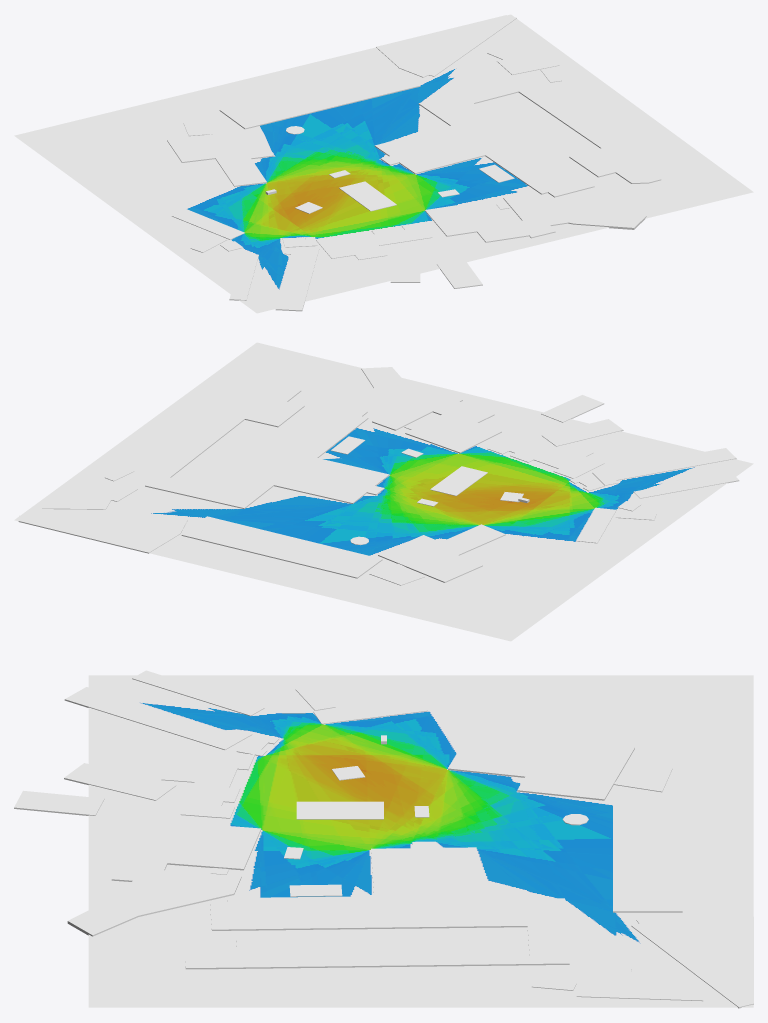
The model's file is agora_.glb.
3 renders of one model, top to bottom at view 1: azimuth 30°, elevation 25°; view 2: azimuth 150°, elevation 25°; view 3: azimuth 270°, elevation 25°, orthographic. The views are drawn at different scales.
Visible parts, largest first — view 1: heatmap_3_agora_color, Mesh_3.001, Mesh_2.001, Mesh_0.001, Mesh_16, Mesh_1.001, Mesh_19, Mesh_18, Mesh_15, Mesh_13, Mesh_9, Mesh_14 (+3 smaller); view 2: heatmap_3_agora_color, Mesh_3.001, Mesh_2.001, Mesh_0.001, Mesh_16, Mesh_1.001, Mesh_19, Mesh_18, Mesh_15, Mesh_13, Mesh_14, Mesh_9 (+3 smaller); view 3: heatmap_3_agora_color, Mesh_3.001, Mesh_2.001, Mesh_0.001, Mesh_16, Mesh_1.001, Mesh_19, Mesh_18, Mesh_15, Mesh_13, Mesh_9, Mesh_14 (+4 smaller).
Boxes of the visible parts, box(x1,y1,x2,y2) form: heatmap_3_agora_color: box(14, 14, 753, 313); Mesh_3.001: box(374, 78, 661, 197); Mesh_2.001: box(425, 193, 646, 242); Mesh_0.001: box(219, 67, 420, 129); Mesh_16: box(376, 15, 516, 77); Mesh_1.001: box(167, 129, 274, 186); Mesh_19: box(282, 223, 432, 259); Mesh_18: box(275, 247, 319, 311); Mesh_15: box(487, 30, 559, 74); Mesh_13: box(390, 249, 420, 282); Mesh_9: box(339, 181, 396, 211); Mesh_14: box(229, 254, 258, 300); heatmap_3_agora_color: box(14, 342, 753, 641); Mesh_3.001: box(145, 381, 389, 508); Mesh_2.001: box(361, 367, 501, 453); Mesh_0.001: box(181, 516, 382, 578); Mesh_16: box(18, 515, 187, 553); Mesh_1.001: box(378, 524, 505, 582); Mesh_19: box(488, 437, 604, 491); Mesh_18: box(592, 448, 736, 485); Mesh_15: box(42, 476, 137, 509); Mesh_13: box(541, 419, 623, 446); Mesh_14: box(633, 473, 739, 498); Mesh_9: box(430, 466, 487, 495); heatmap_3_agora_color: box(88, 675, 753, 1007); Mesh_3.001: box(185, 841, 569, 969); Mesh_2.001: box(67, 821, 261, 936); Mesh_0.001: box(613, 794, 682, 912); Mesh_16: box(631, 913, 753, 1008); Mesh_1.001: box(448, 739, 634, 800); Mesh_19: box(161, 734, 279, 818); Mesh_18: box(64, 687, 252, 749); Mesh_15: box(576, 965, 703, 1001); Mesh_13: box(64, 763, 176, 800); Mesh_9: box(296, 801, 383, 819); Mesh_14: box(132, 670, 264, 716).
Bounding box in the file's own units: 1.2 × 0.0333 × 1.11.
26 materials, 2 textured.
